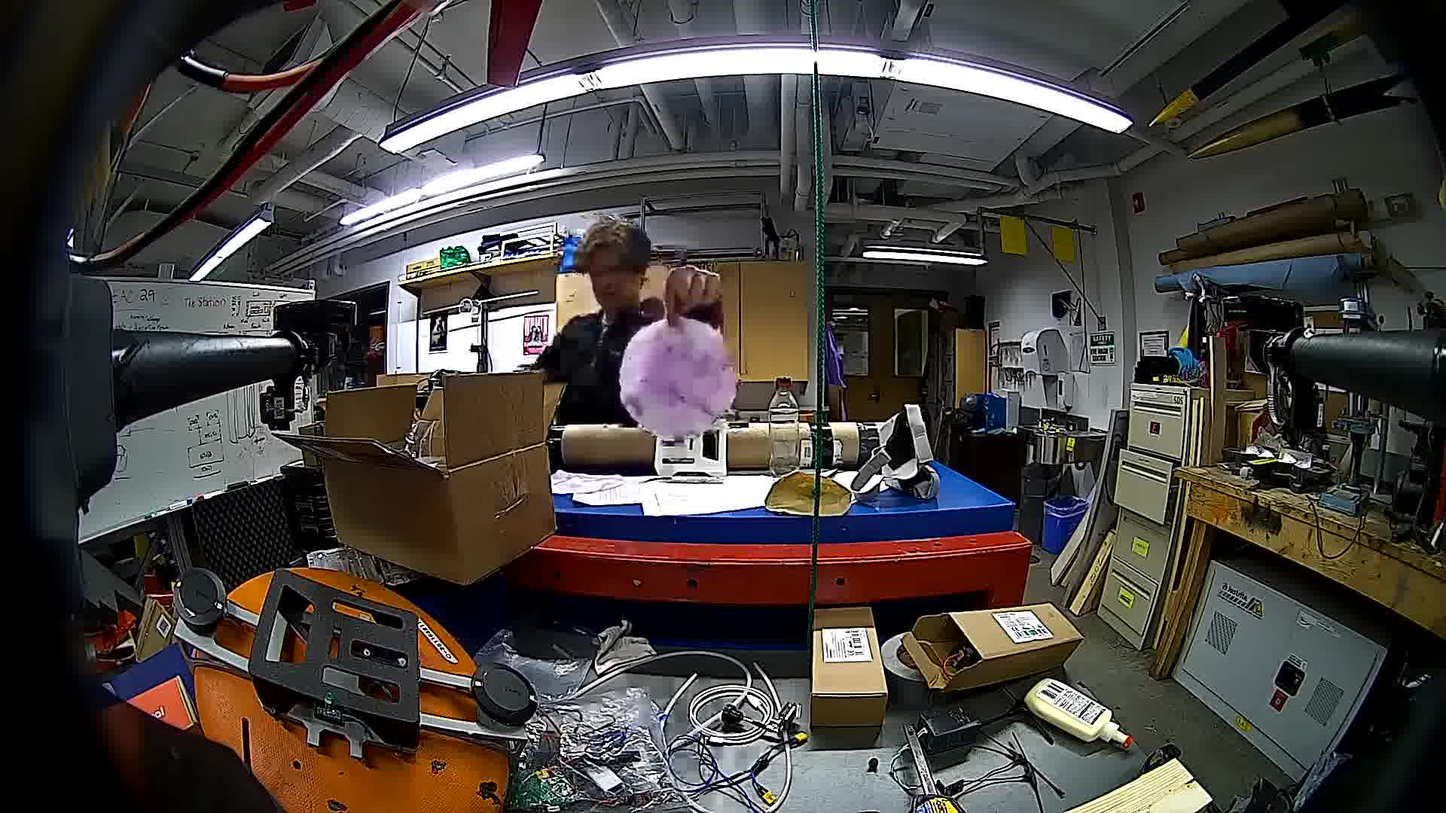Target: (618, 317, 739, 441)
